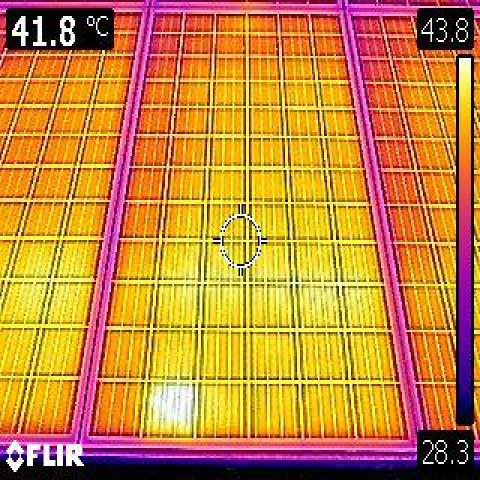fault: (149, 383, 194, 432)
